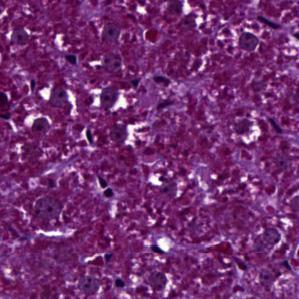inflammation: (228, 112, 261, 147), (92, 86, 128, 112), (45, 81, 76, 109), (232, 27, 262, 54), (25, 113, 54, 132)
